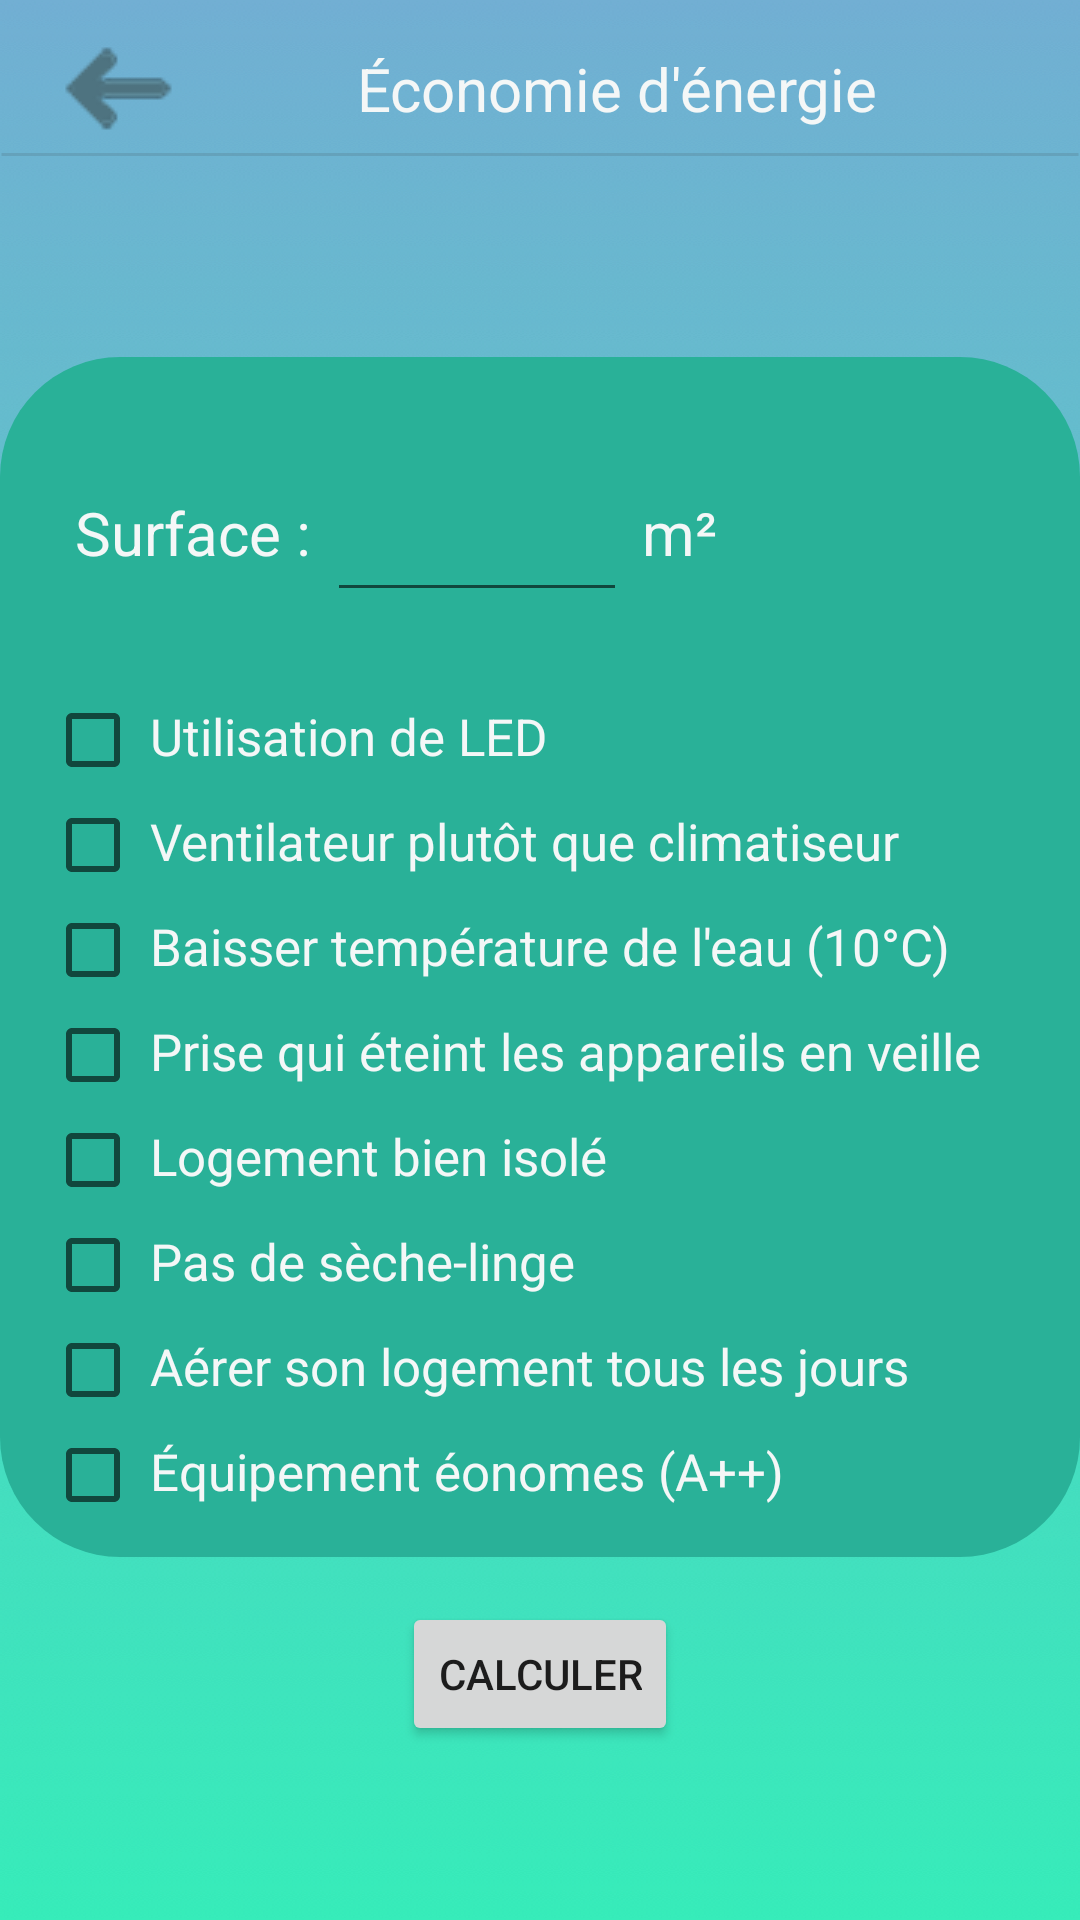

Where to tap for icons on this 1080w x 1920h app screen, as point (x, y):
back: point (118, 89)
